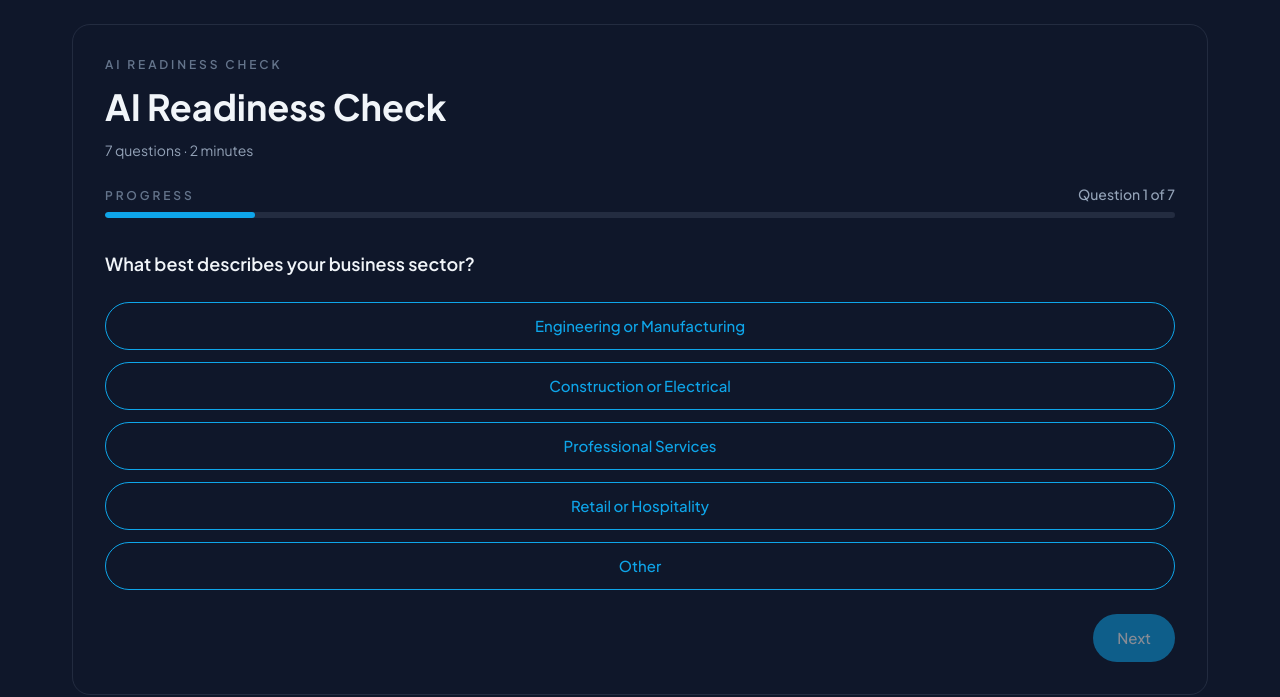
Test: ReadinessCheck answer submission wiring › renders a user-safe error state when the answer route returns a duplicate or conflict response
Expected: the text "What best describes your business sector?" is shown, [105,252,475,275]
Click the button "Engineering or Manufacturing": (640, 326) [105,302,1175,350]
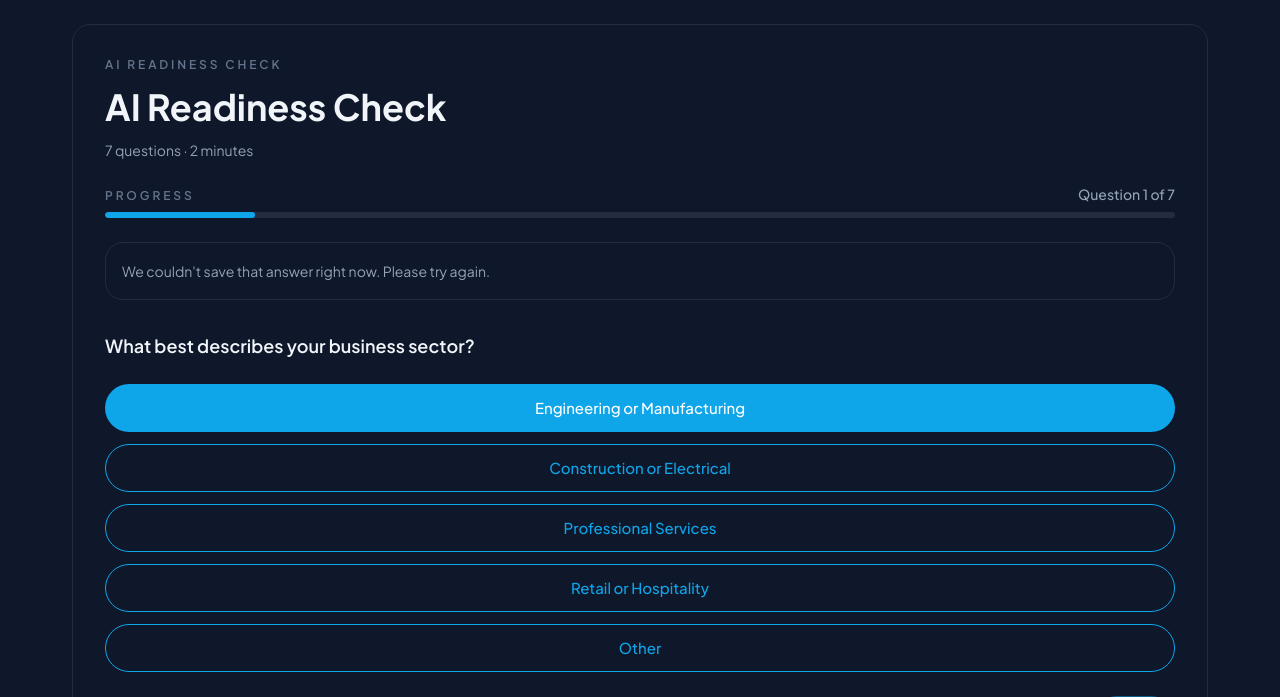
Now the message "We couldn't save that answer right now. Please try again." is shown, box [105,242,1175,300]
Now the message reads "We couldn't save that answer right now. Please try again.", box [122,262,490,280]
